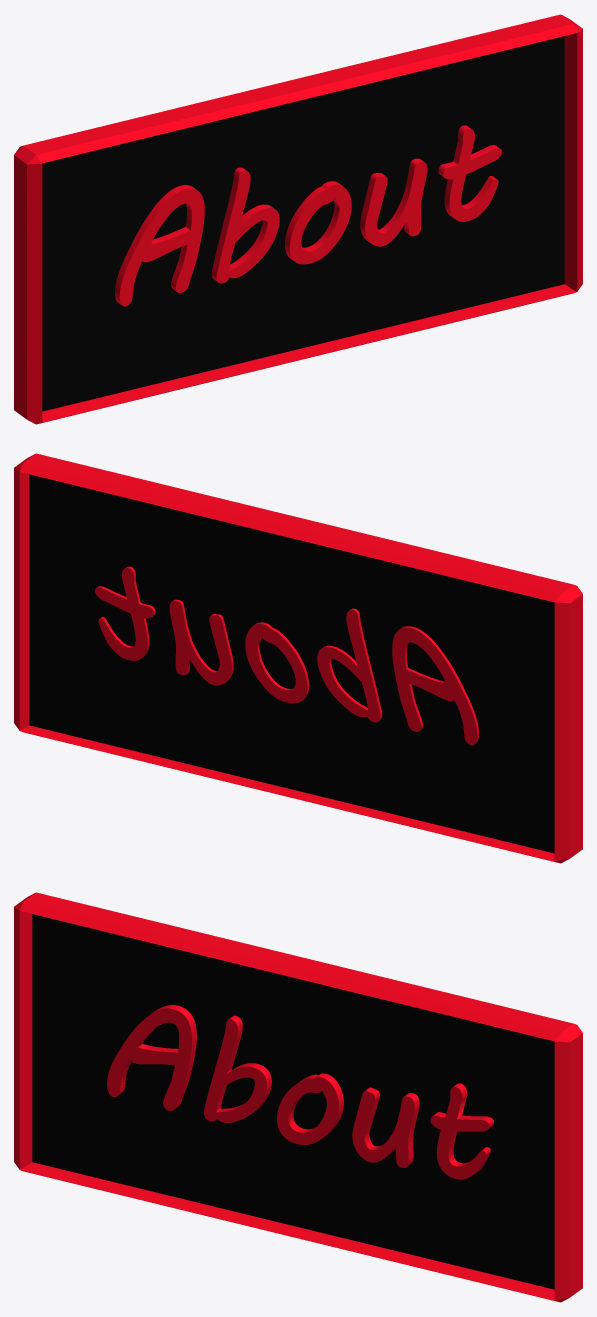
Rendered from about.gltf.
3 renders of one model, top to bottom at view 1: azimuth 30°, elevation 25°; view 2: azimuth 150°, elevation 25°; view 3: azimuth 330°, elevation 25°, orthographic.
Parts seen in each view (by area): view 1: Cube, Resume; view 2: Cube, Resume; view 3: Cube, Resume.
Boxes of the visible parts, left/top/right/bottom form: Cube: left=14, top=14, right=582, bottom=424; Resume: left=115, top=125, right=501, bottom=306; Cube: left=14, top=453, right=582, bottom=863; Resume: left=95, top=566, right=478, bottom=745; Cube: left=14, top=892, right=582, bottom=1302; Resume: left=107, top=1005, right=493, bottom=1179.
Bounding box in the file's own units: 3.04 × 1.41 × 0.2142.
